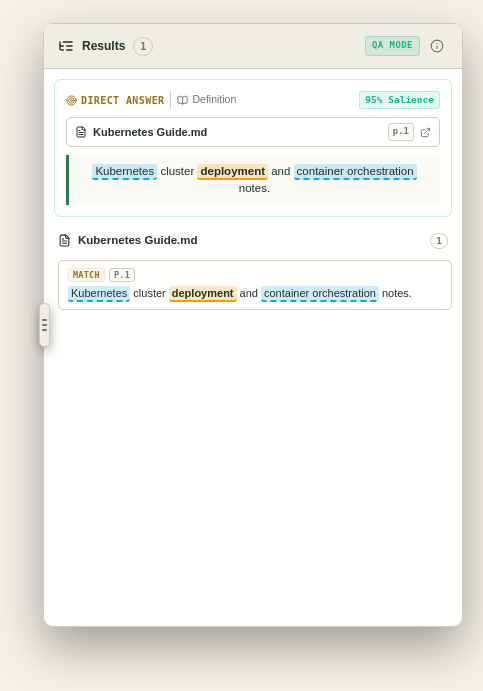
Scenario: ResultsSidebar › renders exact and synonym search highlights in lead answer, match snippets, and citation inspector
Expected: the text with class "search-highlight-exact" below "Direct Answer" reads "deployment", [200,165,265,177]
Click lead answer citation header to open Citation Inspector
Click the button titled "View citation in Kubernetes Guide.md" at (150, 132), box [66,117,440,147]
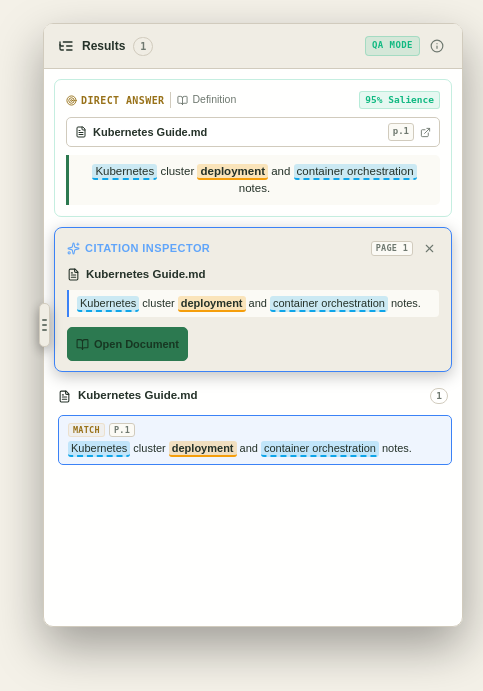
Result: the text "Citation Inspector" is shown at [85,240,210,256]
Result: the element with class "citation-text-block" is shown at [67,290,439,317]
